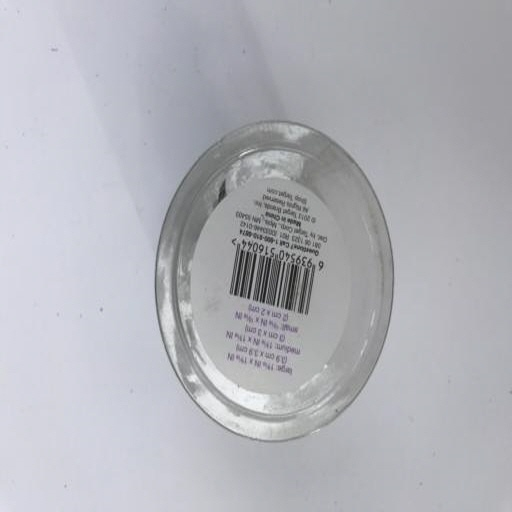Plastic_5: (156, 117, 397, 442)
